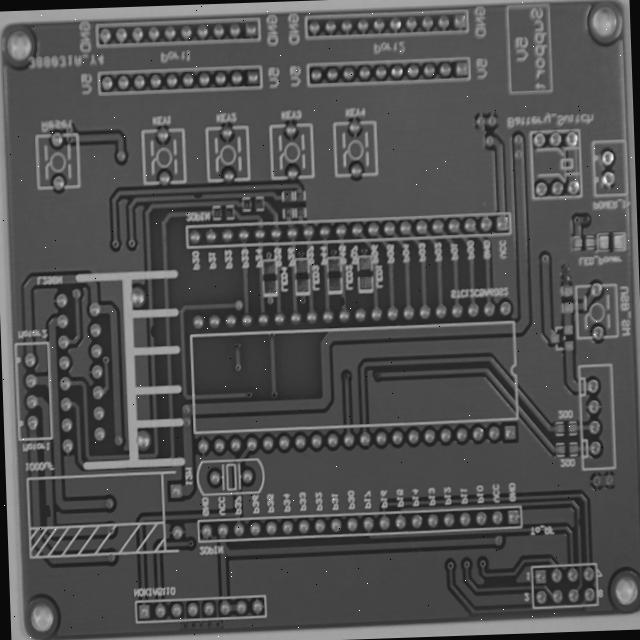mouse_bite: (171, 200, 192, 217), (126, 343, 142, 363), (19, 533, 33, 555), (571, 547, 585, 565), (325, 312, 340, 327)
